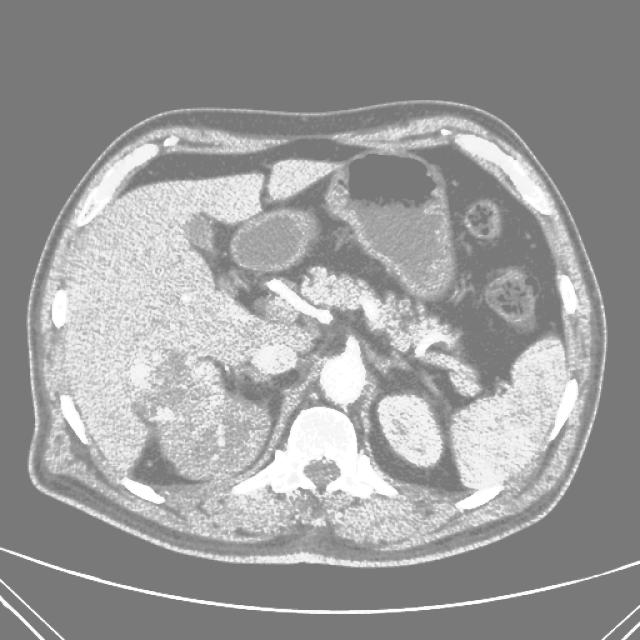TUMOR: (166, 206, 453, 488)
